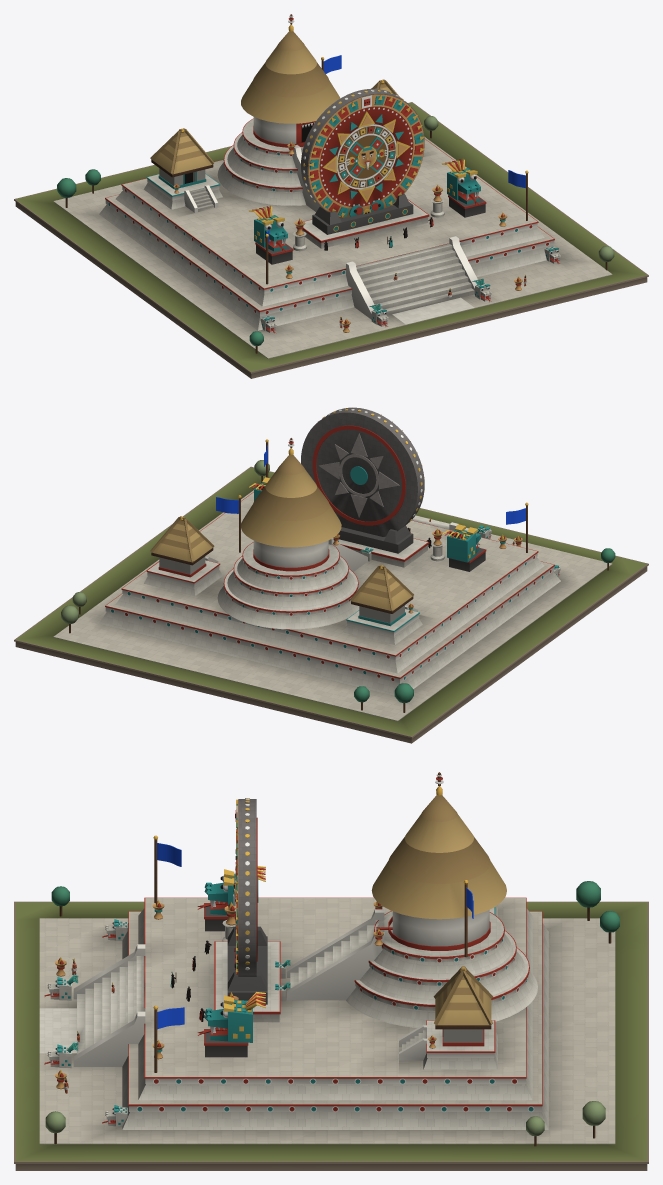
The model's file is lm_taktakvim.glb.
3 views of the same model, one above another, from view 1: azimuth 30°, elevation 25°; view 2: azimuth 150°, elevation 25°; view 3: azimuth 270°, elevation 25° (orthographic). The views are drawn at different scales.
Visible parts, largest first — view 1: lm_taktakvim; view 2: lm_taktakvim; view 3: lm_taktakvim.
Part boxes in pixels (x1,y1,x2,y2): lm_taktakvim: (14, 14, 648, 378); lm_taktakvim: (14, 407, 648, 743); lm_taktakvim: (14, 772, 648, 1170).
Bounding box in the file's own units: 2.31 × 1.11 × 2.38.
Materials: 1 (1 with a texture image).
